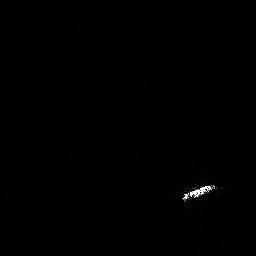ship: (179, 181, 218, 204)
